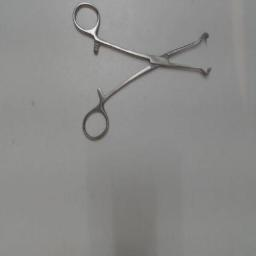Babcock Tissue Forceps: (70, 2, 216, 144)
